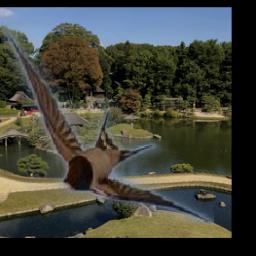Swallow: (0, 22, 213, 224)
